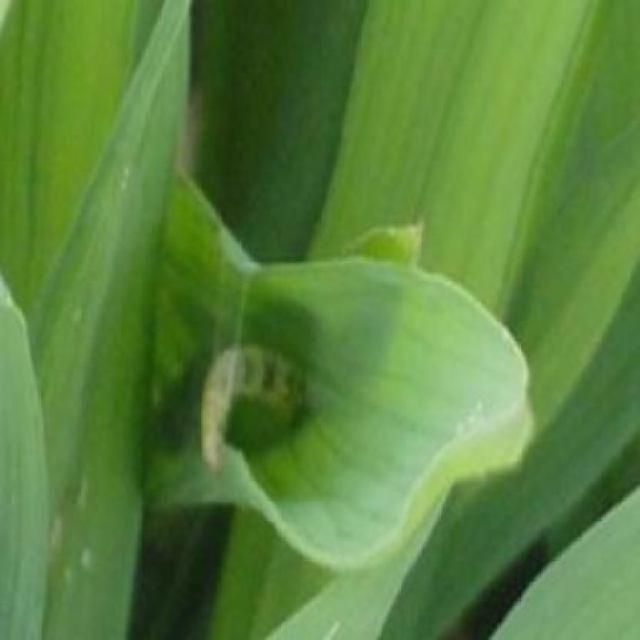leaf-folder: (181, 318, 324, 500)
